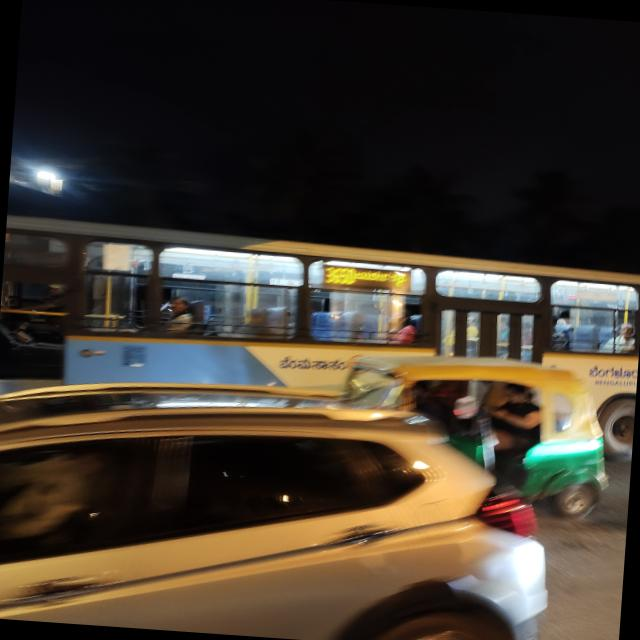bus: (0, 208, 640, 472)
display: (318, 260, 416, 296)
